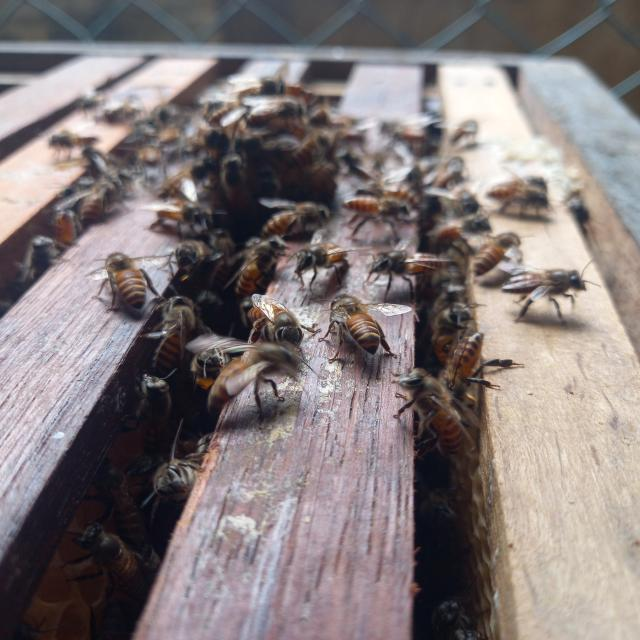honeybee: (398, 359, 477, 468), (325, 291, 387, 366), (98, 244, 152, 319), (265, 190, 338, 242), (366, 238, 447, 280), (507, 272, 584, 316), (242, 291, 305, 344), (290, 248, 346, 280)
